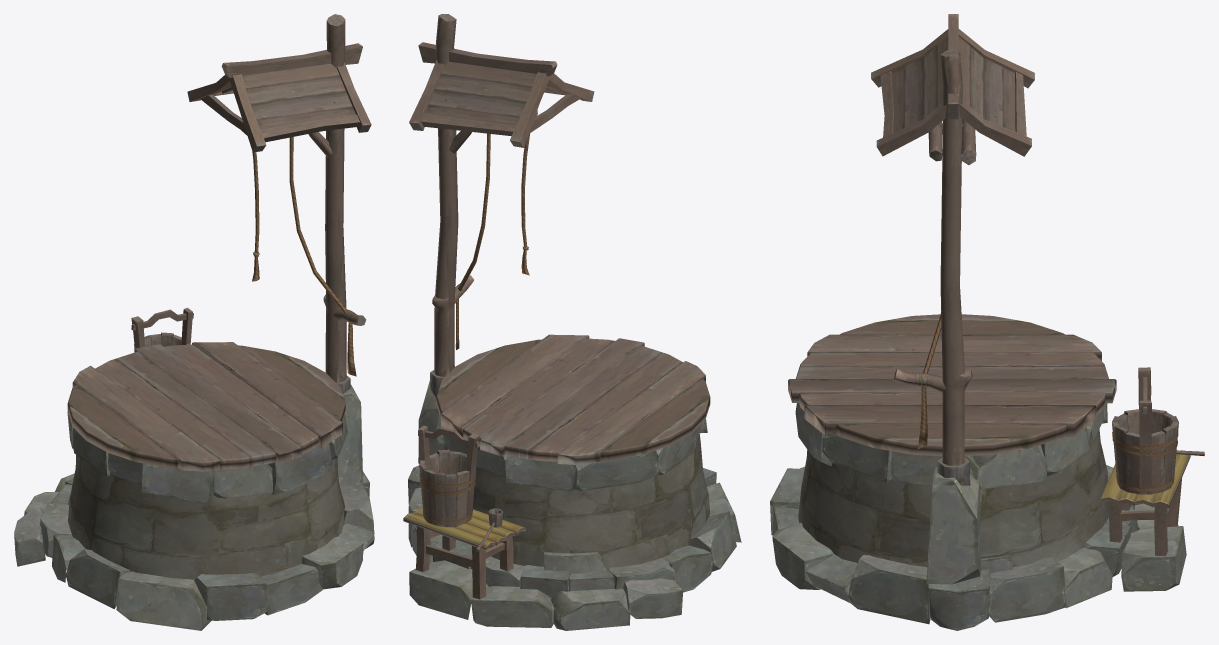
File: Homeworld_Exterior_Dq_Decoration_Well_02_Lod0.fbx
3 views of the same model, side by side, from view 1: azimuth 30°, elevation 25°; view 2: azimuth 150°, elevation 25°; view 3: azimuth 270°, elevation 25° (orthographic). The views are drawn at different scales.
Parts seen in each view (by area): view 1: Homeworld_Exterior_Dq_Decoration_Well_02_Lod0; view 2: Homeworld_Exterior_Dq_Decoration_Well_02_Lod0; view 3: Homeworld_Exterior_Dq_Decoration_Well_02_Lod0.
Boxes of the visible parts, bbox=[...] form: Homeworld_Exterior_Dq_Decoration_Well_02_Lod0: bbox=[14, 14, 374, 630]; Homeworld_Exterior_Dq_Decoration_Well_02_Lod0: bbox=[403, 14, 741, 630]; Homeworld_Exterior_Dq_Decoration_Well_02_Lod0: bbox=[770, 14, 1204, 630].
Bounding box in the file's own units: 3.77 × 5.97 × 4.05.
